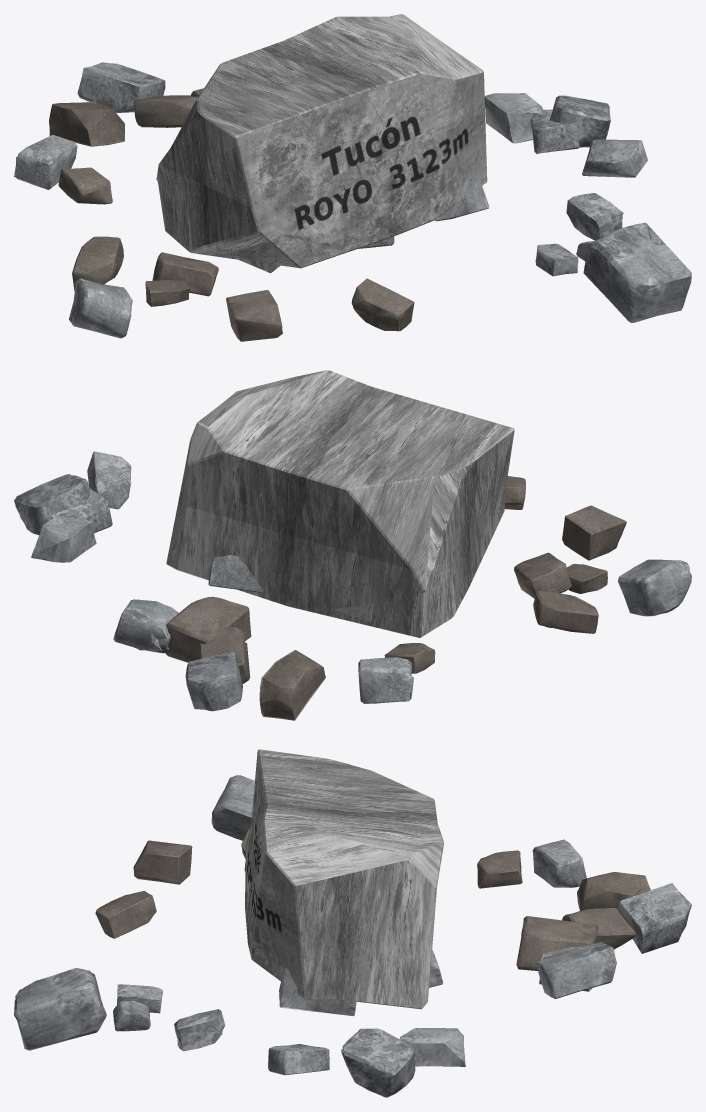
File: cima-pavots.glb
3 renders of one model, top to bottom at view 1: azimuth 30°, elevation 25°; view 2: azimuth 150°, elevation 25°; view 3: azimuth 270°, elevation 25°, orthographic. The views are drawn at different scales.
Visible parts, largest first — view 1: placa_tucon, bloque5, bloque4, bloque13, bloque21, bloque2, bloque17, bloque9, bloque12, bloque3, bloque20, bloque10 (+8 smaller); view 2: placa_tucon, bloque14, bloque13, bloque21, bloque4, bloque20, bloque17, bloque2, bloque12, bloque18, bloque10, bloque3 (+7 smaller); view 3: placa_tucon, bloque5, bloque20, bloque4, bloque18, bloque14, bloque12, bloque17, bloque13, bloque21, bloque2, bloque9 (+7 smaller).
Boxes of the visible parts, bbox=[...] form: placa_tucon: bbox=[156, 14, 487, 268]; bloque5: bbox=[583, 222, 691, 322]; bloque4: bbox=[77, 62, 165, 112]; bloque13: bbox=[69, 278, 132, 338]; bloque21: bbox=[49, 101, 124, 146]; bloque2: bbox=[14, 135, 77, 189]; bloque17: bbox=[226, 290, 282, 341]; bloque9: bbox=[351, 278, 414, 331]; bloque12: bbox=[484, 93, 544, 143]; bloque3: bbox=[582, 139, 647, 177]; bloque20: bbox=[550, 95, 610, 147]; bloque10: bbox=[72, 236, 123, 290]; placa_tucon: bbox=[166, 370, 514, 637]; bloque14: bbox=[165, 596, 251, 662]; bloque13: bbox=[618, 559, 691, 616]; bloque21: bbox=[259, 650, 325, 720]; bloque4: bbox=[185, 652, 242, 711]; bloque20: bbox=[14, 474, 91, 534]; bloque17: bbox=[562, 505, 626, 560]; bloque2: bbox=[358, 657, 413, 703]; bloque12: bbox=[31, 511, 96, 562]; bloque18: bbox=[113, 599, 178, 653]; bloque10: bbox=[533, 591, 598, 633]; bloque3: bbox=[87, 451, 131, 509]; placa_tucon: bbox=[245, 749, 443, 1009]; bloque5: bbox=[14, 968, 106, 1050]; bloque20: bbox=[341, 1028, 415, 1097]; bloque4: bbox=[618, 883, 691, 953]; bloque18: bbox=[536, 942, 616, 998]; bloque14: bbox=[516, 916, 598, 970]; bloque12: bbox=[400, 1028, 465, 1066]; bloque17: bbox=[133, 840, 192, 884]; bloque13: bbox=[211, 775, 254, 840]; bloque21: bbox=[577, 872, 650, 910]; bloque2: bbox=[532, 839, 586, 887]; bloque9: bbox=[95, 891, 156, 938].
Size of the model in its own units: 5.66 by 1.59 by 5.76.
3 materials, 3 textured.
